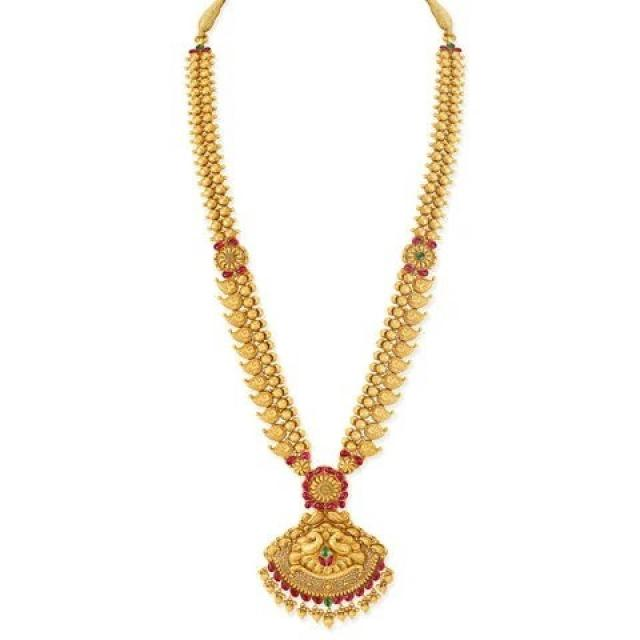missing gem: (224, 251, 236, 264), (320, 485, 331, 494)
